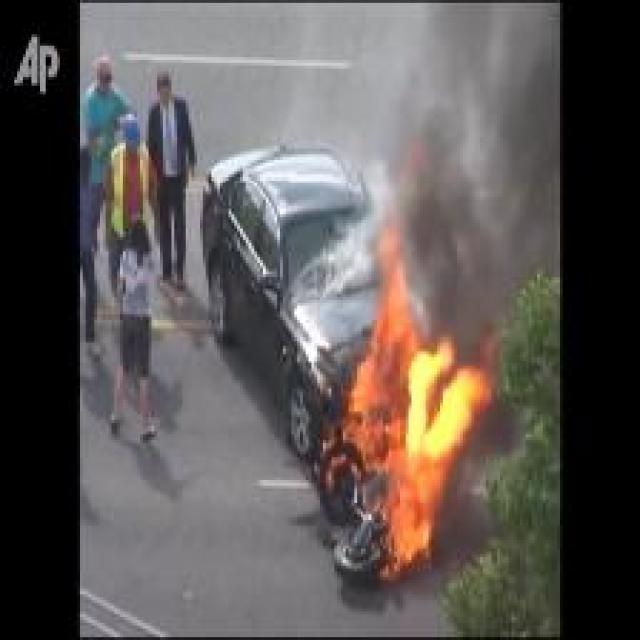Fire: (338, 216, 492, 573)
